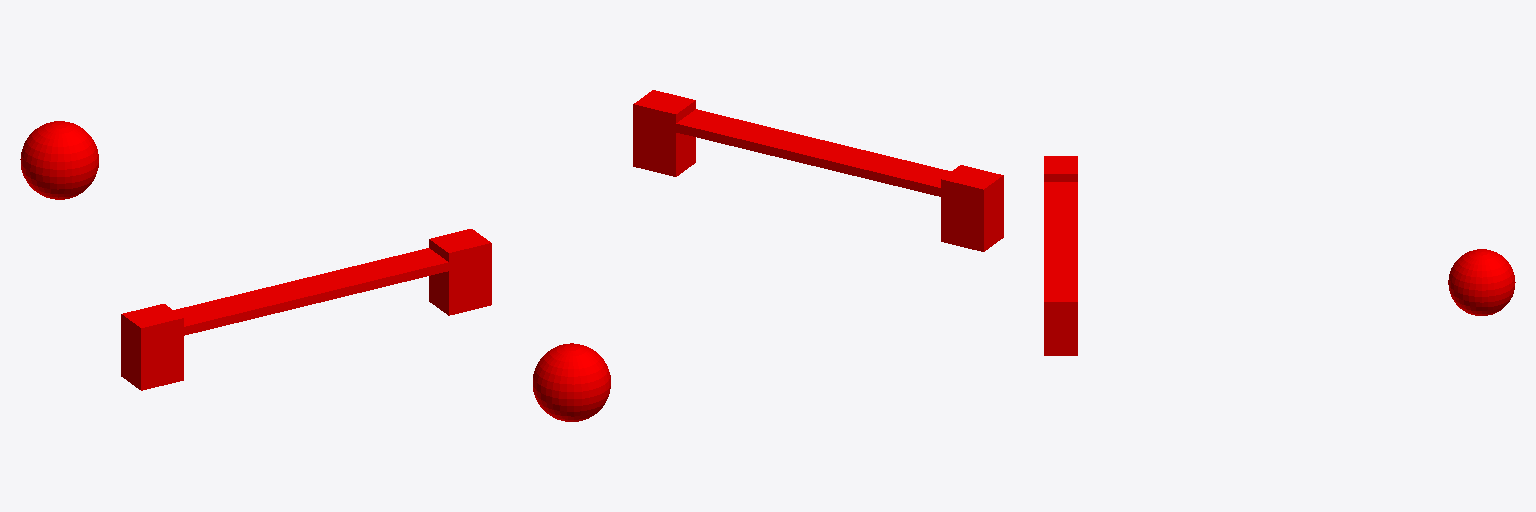
The robot description file, URDF, robot "gate":
<?xml version="1.0" ?>
<robot name = "gate">


    <link name = "base_left">
        <visual>
            <origin xyz = "-0.9 0 0.175" rpy = "0 0 0"/>
 
            <geometry>
                <box size = "0.25 0.2 0.35"/>
            </geometry>
            <material name = "red">
                <color rgba = "1 0 0 0"/>
            </material>    
        </visual>
        <collision>
            <origin xyz = "-0.9 0 0.175" rpy = "0 0 0"/>
            <geometry>
                <box size = "0.25 0.2 0.35"/>
            </geometry>
            <!-- <origin xyz = "-0.9 0 0.15" rpy = "0 0 0"/> -->
        </collision>
        <inertial>
            <mass value="20"/>
            <inertia ixx="0.01" ixy="0.0" ixz="0.0" iyy="0.01" iyz="0.0" izz="0.01"/>
          </inertial>
      
    </link> 


    <link name = "base_up">
        <visual>
            <origin xyz = "0 0 0.275" rpy = "0 0 0"/>
            <geometry>
                <box size = "1.8 0.2 0.05"/>
            </geometry>
            <!-- <origin xyz = "0 0 0.275" rpy = "0 0 0"/> -->
            <material name = "red">
                <color rgba = "1 0 0 0"/>
            </material>    

        </visual>
        <collision>
            <origin xyz = "0 0 0.275" rpy = "0 0 0"/>
            <geometry>
                <box size = "1.8 0.2 0.05"/>
            </geometry>
            <!-- <origin xyz = "0 0 0.275" rpy = "0 0 0"/> -->
        </collision>
        <inertial>
            <mass value="20"/>
            <inertia ixx="0.01" ixy="0.0" ixz="0.0" iyy="0.01" iyz="0.0" izz="0.01"/>
          </inertial>
      
    </link> 


    <joint name = "base_ji_left" type = 'fixed'>
        <parent link = "base_left"/>
        <child link = "base_up"/>
        <origin xyz = "0 0 0" rpy = "0 0 0"/>
    </joint>

    <link name = "base_right">
        <visual>
            <origin xyz = "0.9 0 0.175" rpy = "0 0 0"/>
            <geometry>
                <box size = "0.25 0.2 0.35"/>
            </geometry>
            <material name = "red">
                <color rgba = "1 0 0 0"/>
            </material>    
            <!-- <origin xyz = "0.9 0 0.15" rpy = "0 0 0"/> -->
        </visual>
        <collision>
            <origin xyz = "0.9 0 0.175" rpy = "0 0 0"/>
            <geometry>
                <box size = "0.25 0.2 0.35"/>
            </geometry>
            
        </collision>
        <inertial>
            <mass value="20"/>
            <inertia ixx="0.01" ixy="0.0" ixz="0.0" iyy="0.01" iyz="0.0" izz="0.01"/>
          </inertial>
      
    </link> 

    <joint name = "base_ji_right" type = 'fixed'>
        <parent link = "base_up"/>
        <child link = "base_right"/>
        <origin xyz = "0 0 0" rpy = "0 0 0"/>
    </joint>

  <link name="ball">
    <visual>
      <origin xyz="0 2.5 0"/>
      <geometry>
        <sphere radius="0.2"/>
      </geometry>
            <material name = "red">
                <color rgba = "1 0 0 0"/>
            </material>    
    </visual>
    <collision>
      <origin xyz="0 2.5 0"/>
      <geometry>
        <sphere radius="0.2"/>
      </geometry>
    </collision>
    <inertial>
      <mass value="0.5"/>
      <inertia ixx="0.01" ixy="0.0" ixz="0.0" iyy="0.01" iyz="0.0" izz="0.01"/>
    </inertial>
  </link>


    <joint name = "base_ji_back" type = 'fixed'>
        <parent link = "base_up"/>
        <child link = "ball"/>
        <origin xyz = "0 0 0" rpy = "0 0 0"/>
    </joint>

    


</robot>

--- Facts derived from the render (not from the file) ---
Views: 3 orthographic renders of the robot side by side, from view 1: azimuth 30°, elevation 25°; view 2: azimuth 150°, elevation 25°; view 3: azimuth 270°, elevation 25°.
Robot: gate — 4 links, 3 joints (3 fixed); root link base_left; default pose: all joints at 0.
Links seen in each view (by area): view 1: base_up, ball, base_left, base_right; view 2: base_up, ball, base_left, base_right; view 3: ball, base_up, base_right, base_left.
Boxes of the visible links, bbox=[...] form: base_up: bbox=[163, 248, 469, 340]; ball: bbox=[20, 121, 98, 199]; base_left: bbox=[121, 304, 183, 390]; base_right: bbox=[429, 229, 491, 315]; base_up: bbox=[655, 109, 958, 196]; ball: bbox=[533, 343, 610, 421]; base_left: bbox=[941, 165, 1003, 251]; base_right: bbox=[633, 90, 695, 176]; ball: bbox=[1448, 249, 1515, 315]; base_up: bbox=[1044, 182, 1077, 283]; base_right: bbox=[1044, 284, 1077, 355]; base_left: bbox=[1044, 156, 1077, 181].
Size in the robot's own frame: 2.05 by 2.8 by 0.55 metres.
Geometry: primitives only (box / cylinder / sphere), no mesh files.
